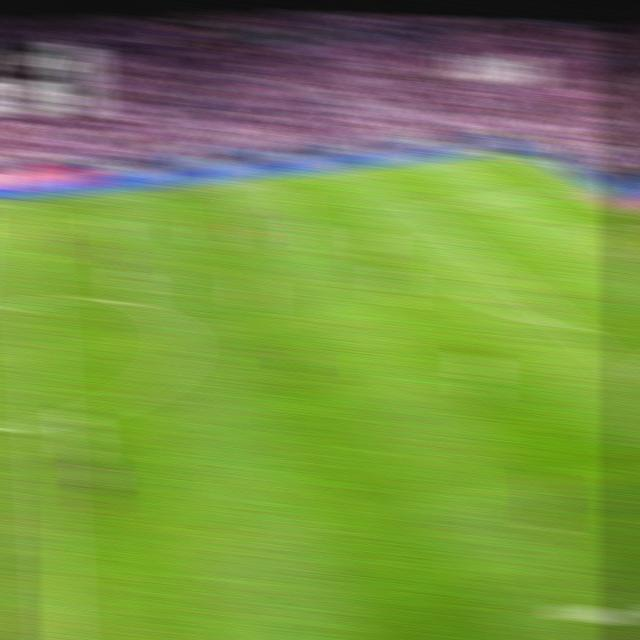bigarea_top_inner: (406, 200, 434, 216)
bottom_arc_area_intersection: (553, 315, 584, 335)
corner: (493, 149, 522, 161)
halfcircle_bottom: (32, 406, 65, 437)
halfcircle_top: (22, 286, 56, 314)
midline_top_intersection: (18, 195, 46, 209)
smallarea_top_inner: (572, 226, 599, 239)
top_arc_area_intersection: (464, 245, 492, 261)
